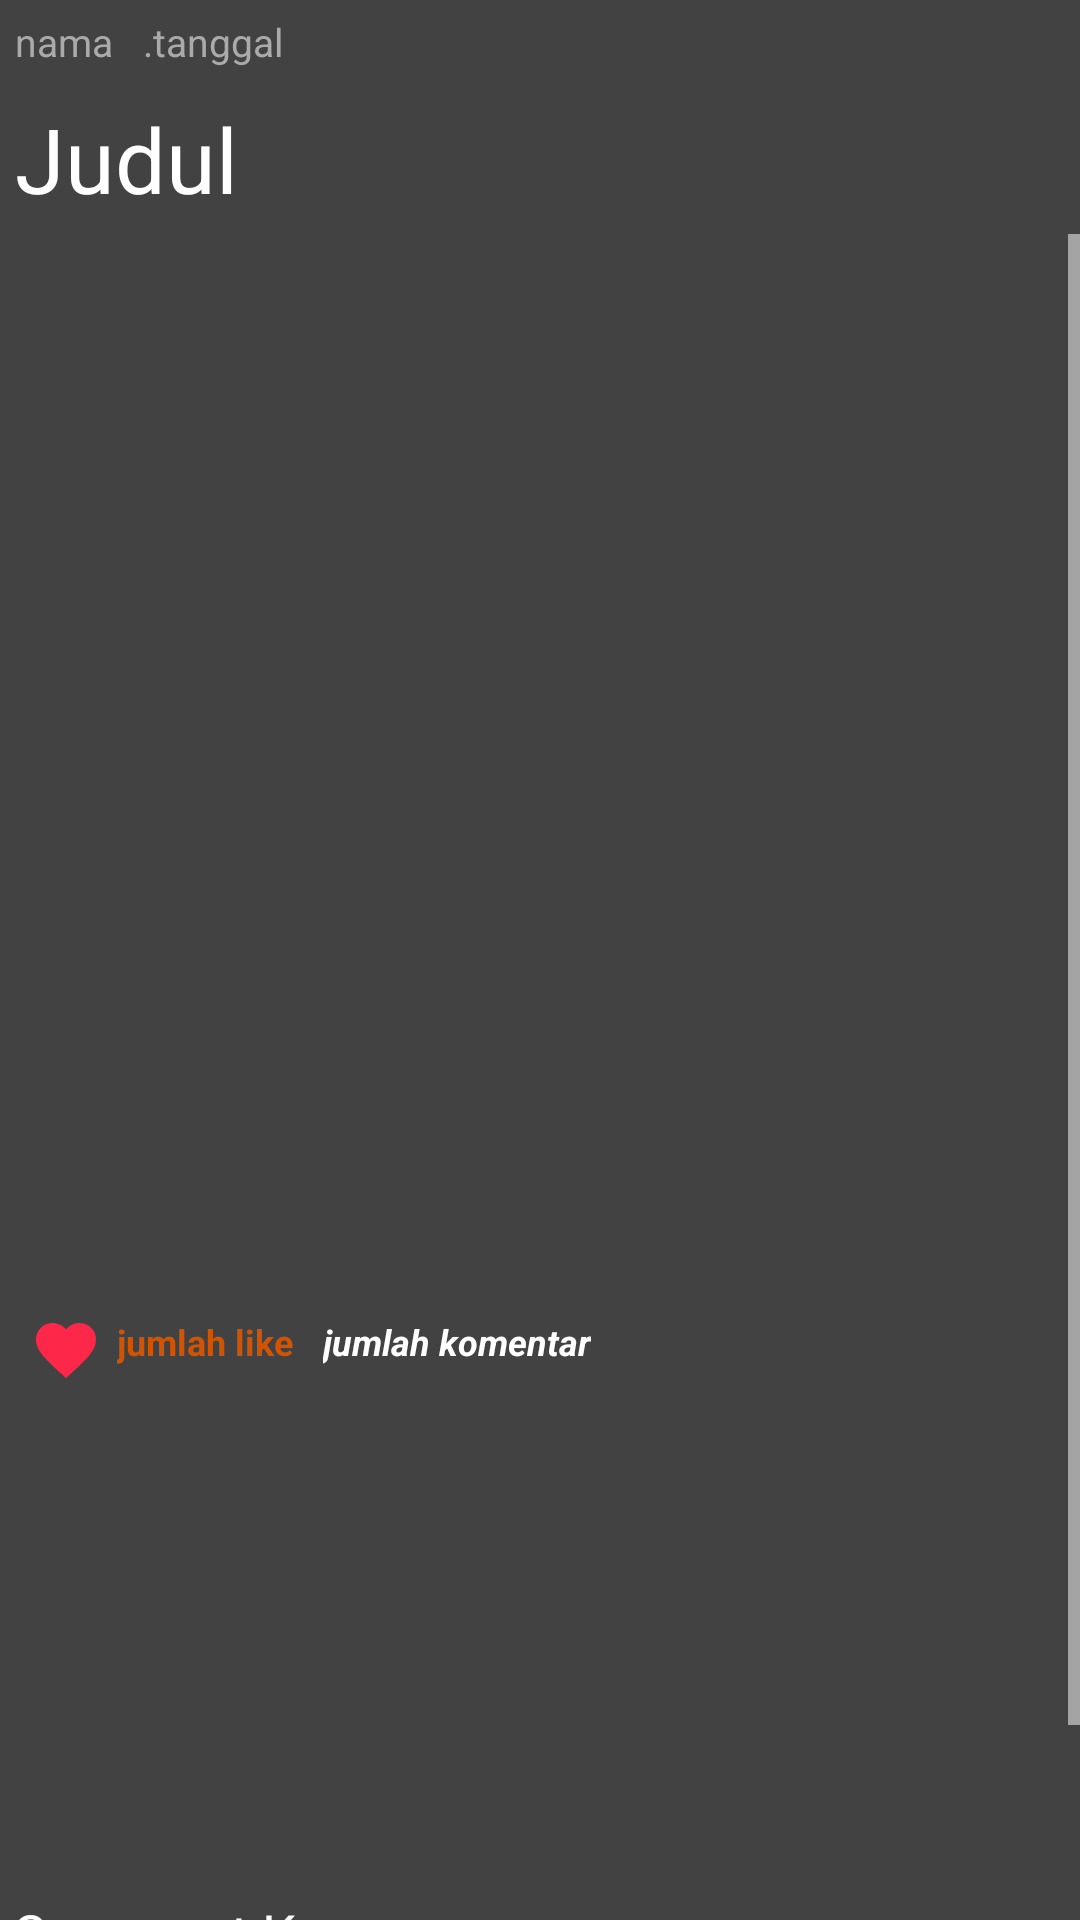

Screen size 1080 x 1920. Icon name, then its center in pixels as (x,y):
favorite: (66,1350)
